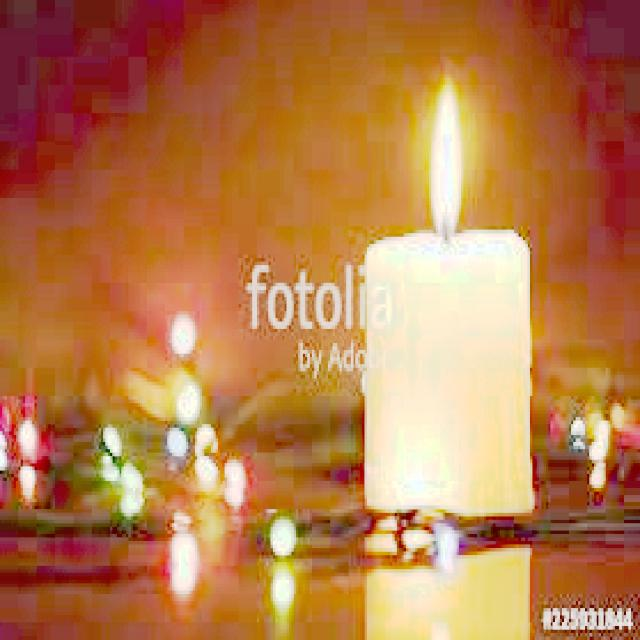api: (419, 72, 472, 227)
